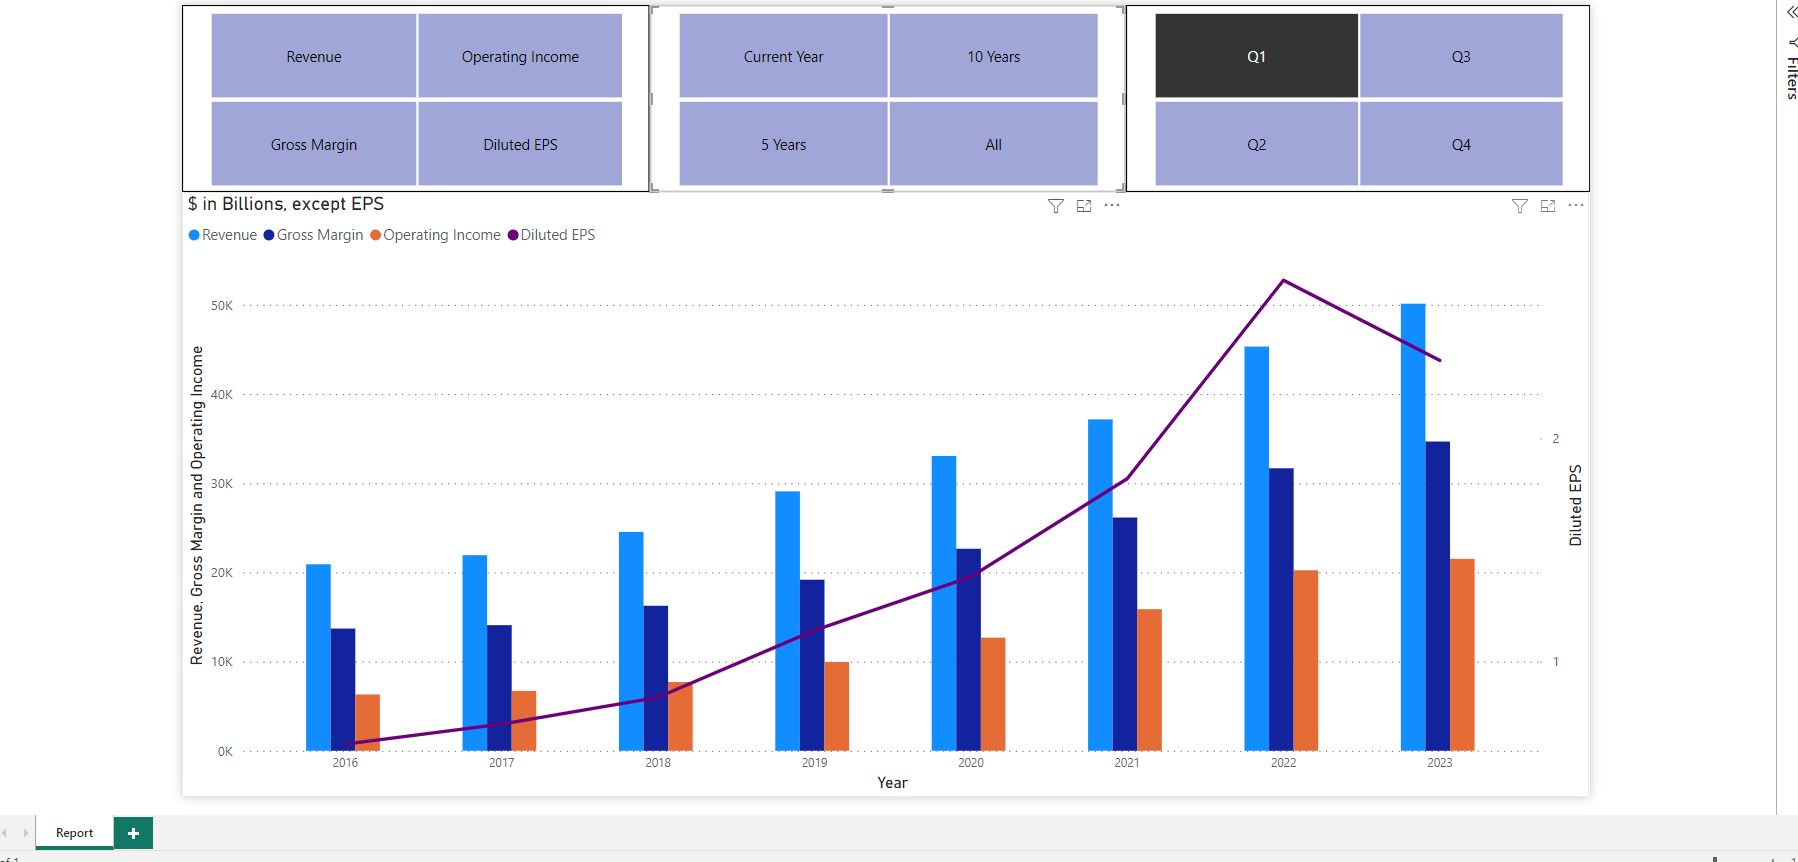

This screenshot's page, from the dashboard's own definition file:
{"tool":"powerbi","page":{"name":"Report","canvas":[1280,720],"ordinal":0},"visuals":[{"type":"lineClusteredColumnComboChart","title":"$ in Billions, except EPS","fields":{"Category":["PL Data.Year"],"Y":["SlicerData.Revenue","SlicerData.Gross Margin","SlicerData.Operating Income"],"Y2":["SlicerData.Diluted EPS"]},"box":[0,170,1279.1,550],"z":0},{"type":"slicer","fields":{"Values":["SlicerData.Label"]},"box":[0,0,425.5,170],"z":1000},{"type":"slicer","fields":{"Values":["SlicerYears.Label"]},"box":[425.5,0,431.8,170],"z":2000},{"type":"slicer","fields":{"Values":["PL Data.Qtr"]},"box":[858.2,0,421.8,170],"z":2001}]}

Visuals, with their boxes on the page's 1280x720 design canvas (x1, y1, x2, y2). These are canvas units, not pixel positions in the 1798x862 screenshot, which may show the page scaled, cropped or inside an application window:
"$ in Billions, except EPS" lineClusteredColumnComboChart: 0, 170, 1279, 720
slicer - SlicerData.Label: 0, 0, 426, 170
slicer - SlicerYears.Label: 426, 0, 857, 170
slicer - PL Data.Qtr: 858, 0, 1280, 170
